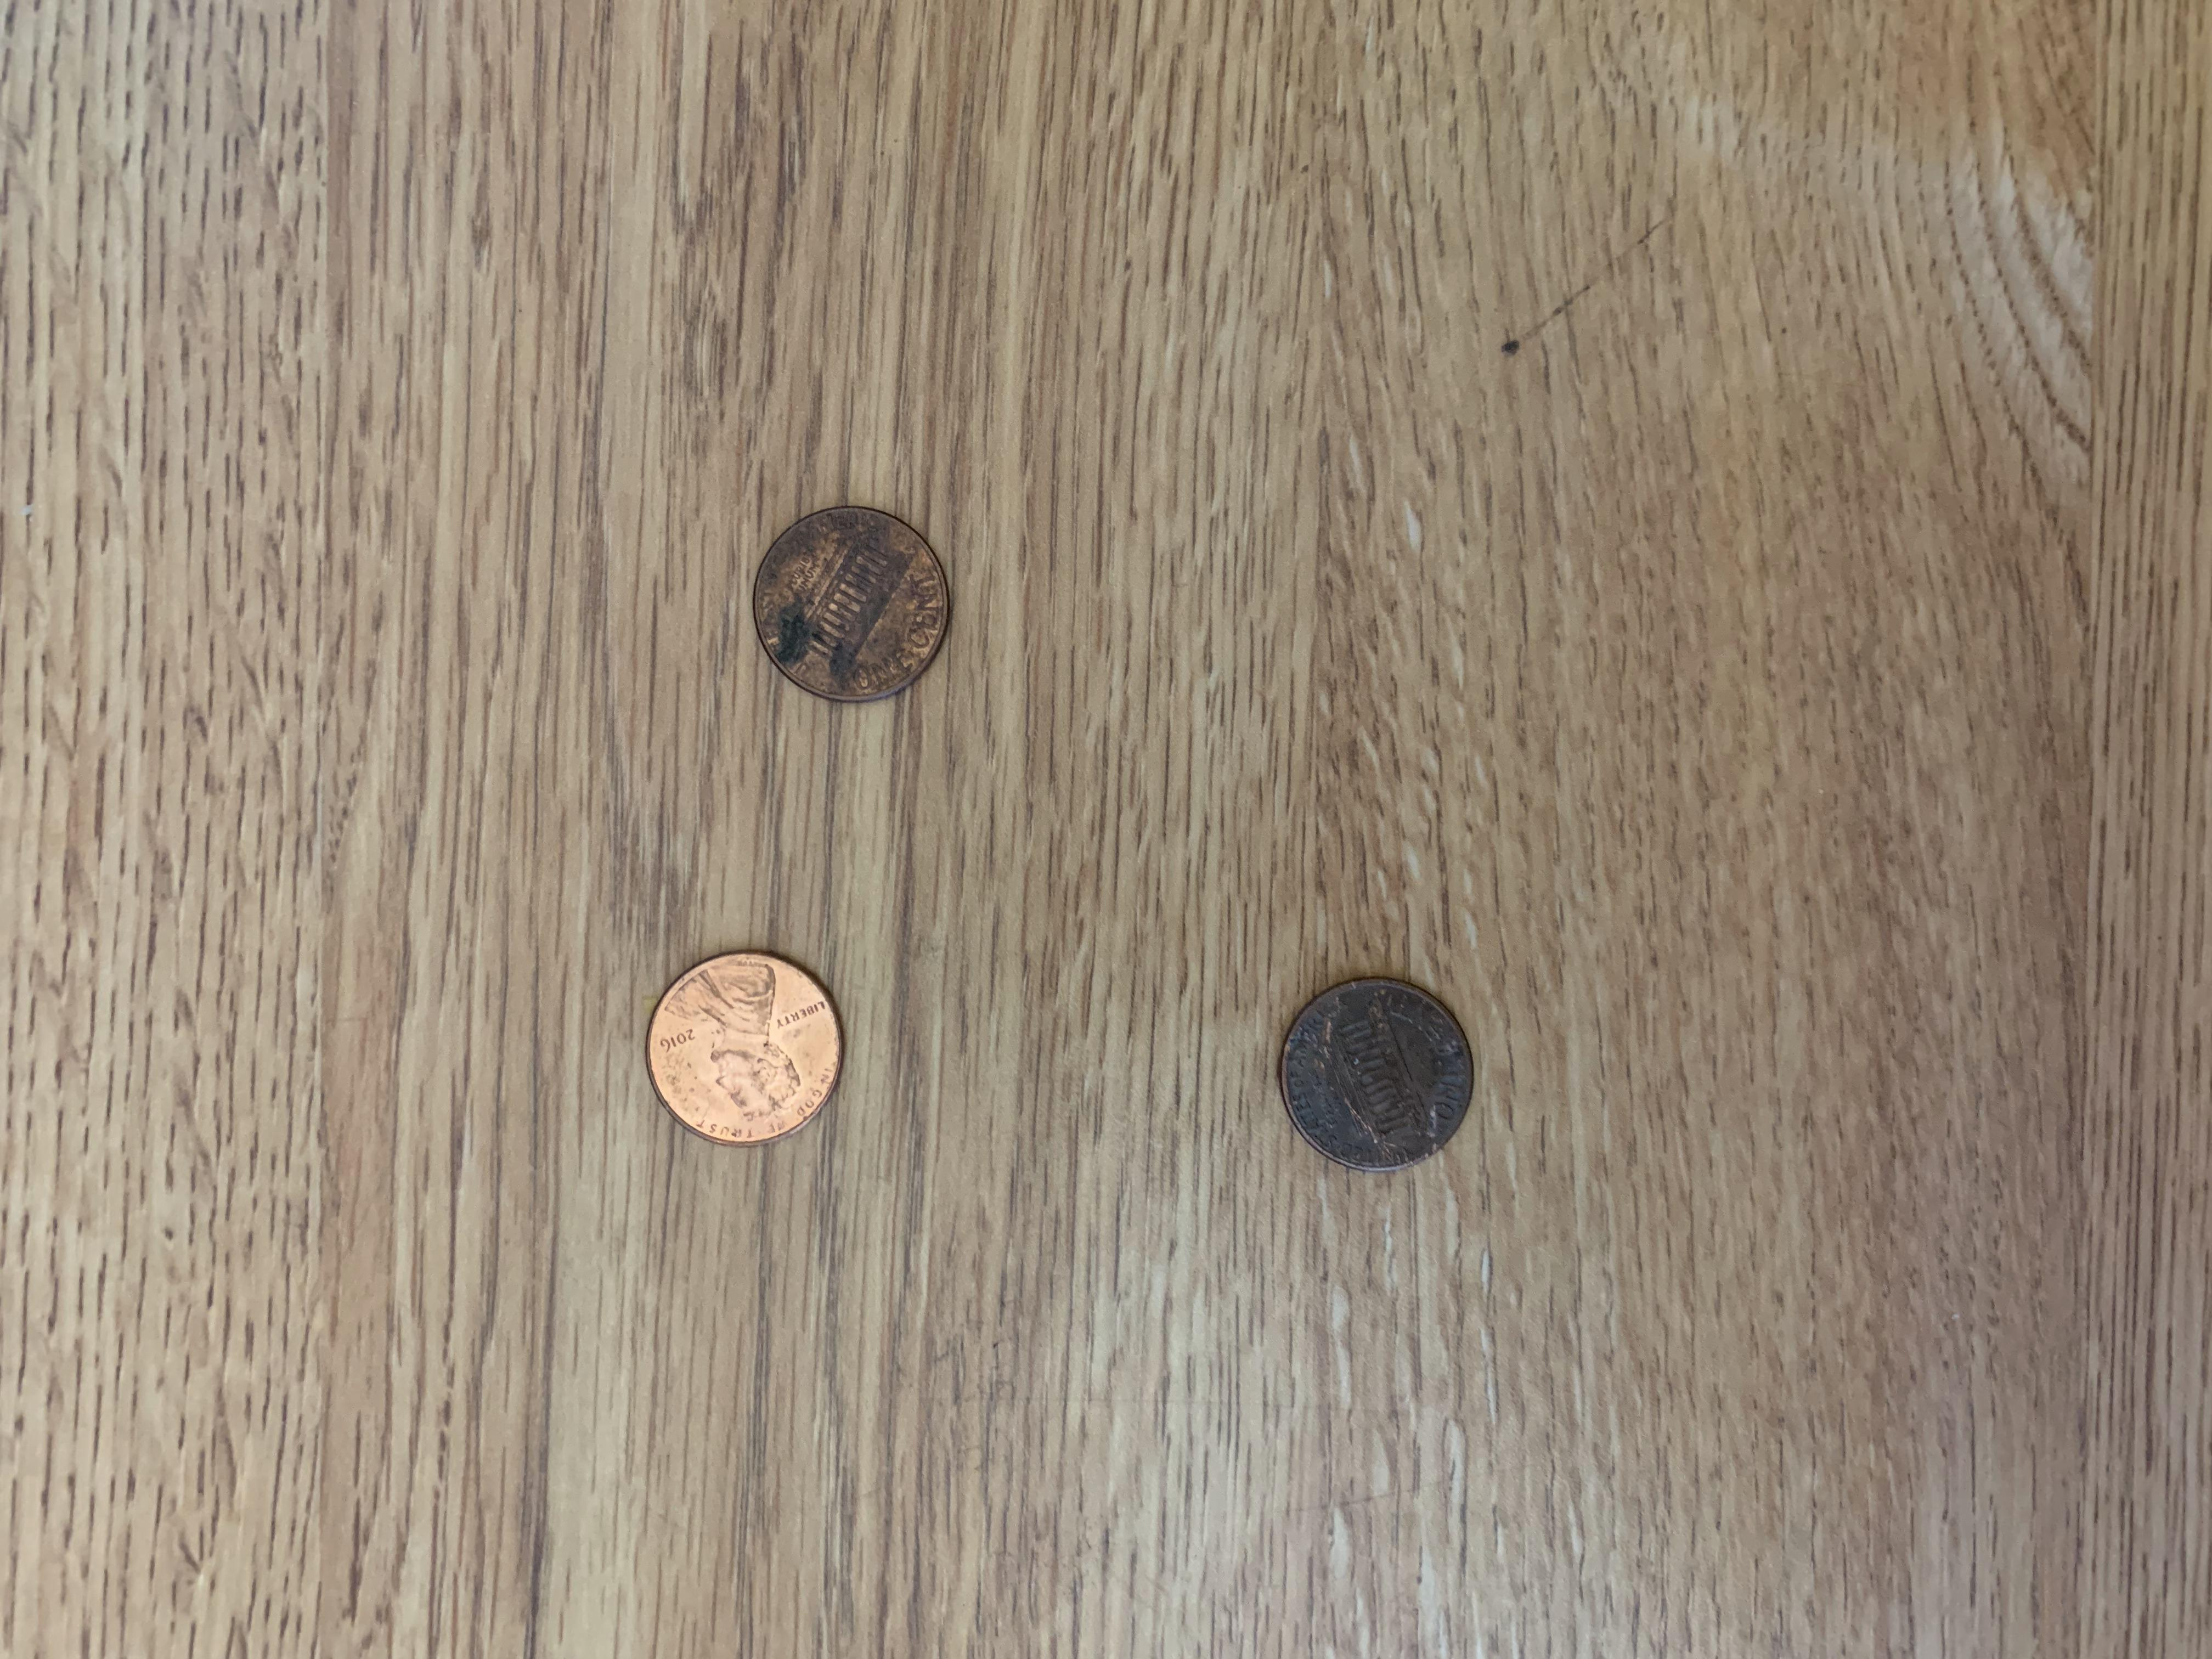Penny: (745, 502, 956, 721), (1266, 969, 1487, 1176), (637, 945, 846, 1150)
